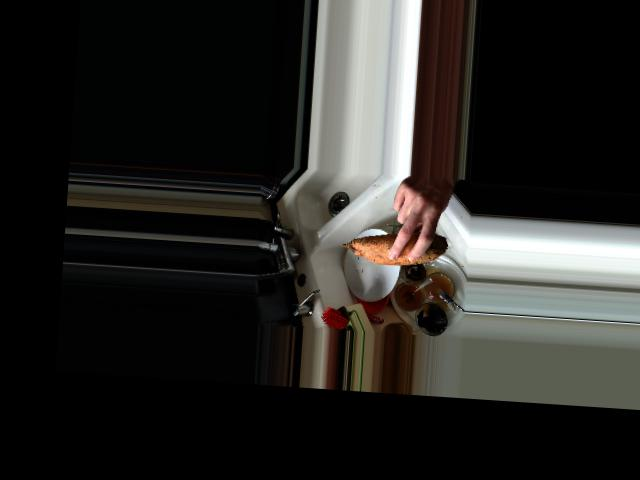sweet_potato: (337, 222, 452, 267)
